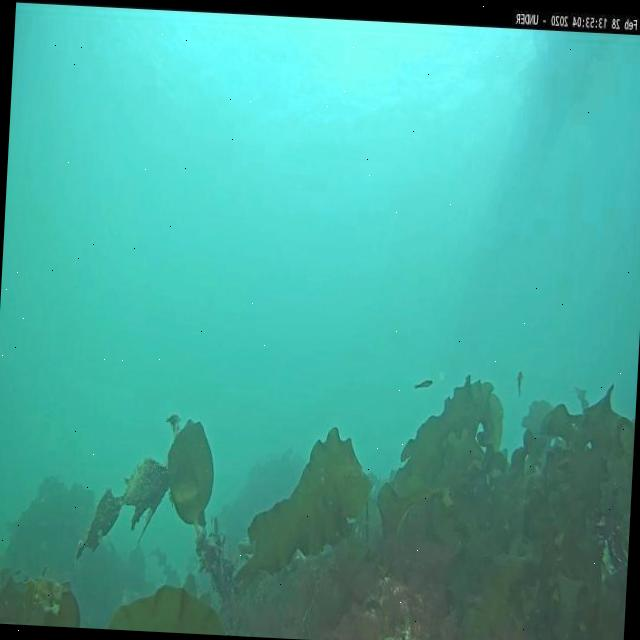fish: (413, 378, 434, 390), (516, 370, 525, 397)
